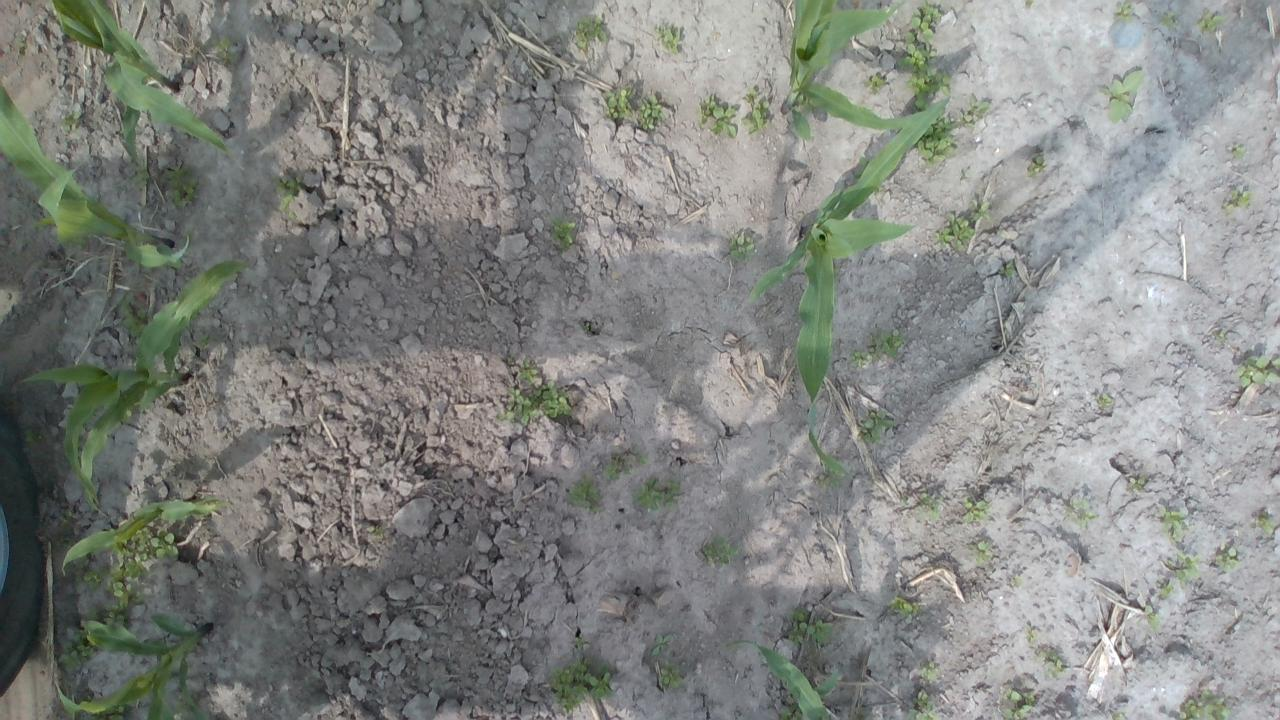Maize: (745, 96, 953, 482), (19, 257, 258, 503), (0, 78, 190, 275), (45, 1, 232, 169), (783, 1, 952, 142), (50, 613, 216, 718), (58, 498, 233, 582), (723, 632, 841, 718)
Weeds: (897, 2, 993, 166), (52, 601, 142, 679), (107, 523, 182, 611), (545, 641, 617, 710), (1142, 550, 1202, 629), (501, 359, 567, 424), (644, 633, 684, 696), (851, 332, 911, 368), (784, 605, 834, 647), (1106, 66, 1142, 122), (910, 660, 942, 719), (602, 82, 642, 128), (698, 92, 738, 138), (632, 476, 681, 513), (115, 293, 152, 340), (1170, 691, 1234, 718), (1238, 347, 1278, 390), (165, 165, 202, 211), (591, 450, 640, 484), (897, 491, 946, 522), (1000, 684, 1042, 718), (562, 476, 604, 509), (571, 16, 612, 48), (741, 84, 767, 132), (56, 102, 90, 136), (859, 413, 894, 445), (940, 212, 969, 250), (638, 96, 670, 130), (546, 217, 578, 250), (1158, 510, 1191, 541), (861, 70, 892, 103), (210, 41, 242, 72), (658, 19, 685, 54), (698, 541, 736, 564), (278, 172, 297, 216), (1198, 6, 1224, 36), (1040, 648, 1067, 676), (1213, 544, 1242, 570), (1226, 184, 1252, 210), (964, 499, 991, 523), (890, 597, 914, 623), (731, 238, 754, 264), (962, 204, 985, 226), (1230, 136, 1248, 160), (1114, 1, 1136, 20), (1259, 516, 1278, 538), (1075, 504, 1094, 526), (1096, 389, 1114, 407), (971, 540, 990, 556), (1029, 156, 1043, 175), (1163, 12, 1180, 25)
